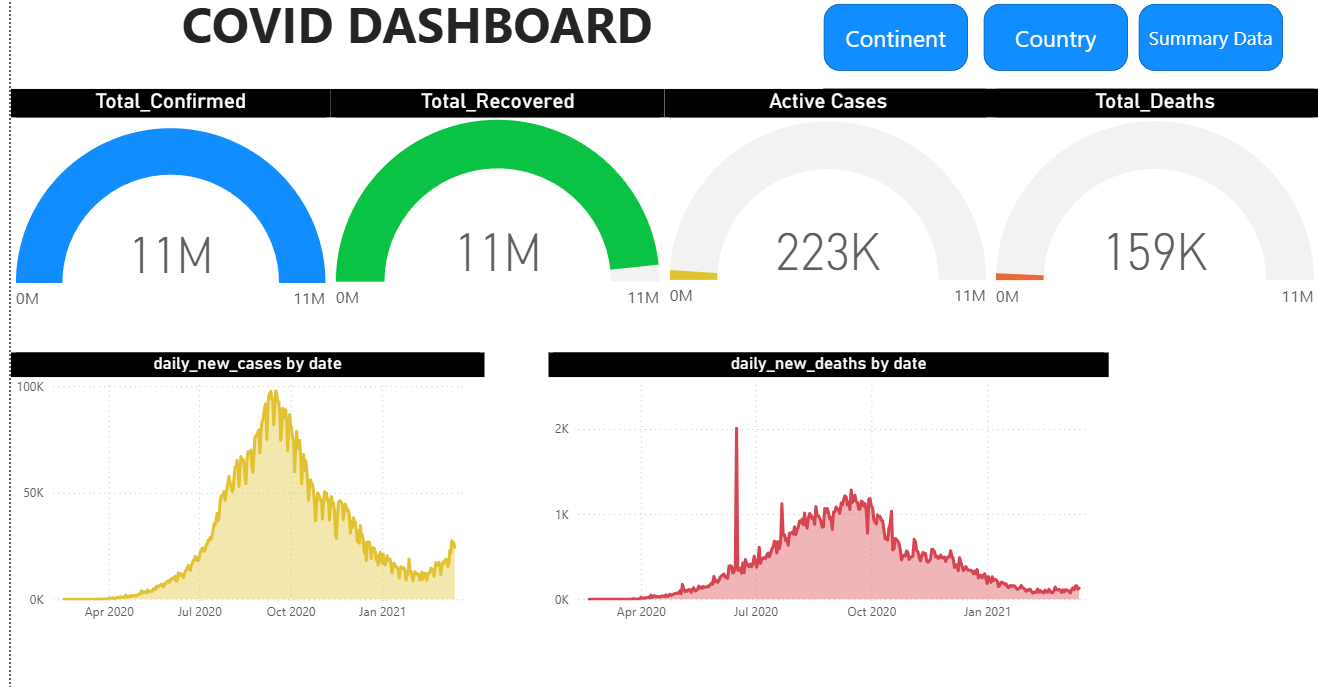

The page's visual inventory and layout, read from the dashboard file:
{"tool":"powerbi","page":{"name":"India","canvas":[1280,720],"ordinal":3},"visuals":[{"type":"gauge","title":" Total_Confirmed ","fields":{"Y":["Sum(summary data.total_confirmed)"],"MaxValue":["Sum(summary data.total_confirmed)"]},"box":[0,101.5,312.9,237.4],"z":0},{"type":"gauge","title":" Total_Recovered","fields":{"MaxValue":["Sum(summary data.total_confirmed)"],"Y":["Sum(summary data.total_recovered)"]},"box":[312.9,101.5,326.6,227.8],"z":1000},{"type":"gauge","title":"Active Cases","fields":{"MaxValue":["Sum(summary data.total_confirmed)"],"Y":["Sum(summary data.active_cases)"]},"box":[639.5,101.5,319.7,227.8],"z":2000},{"type":"gauge","title":" Total_Deaths","fields":{"MaxValue":["Sum(summary data.total_confirmed)"],"Y":["Sum(summary data.total_deaths)"]},"box":[959.2,101.5,321.1,227.8],"z":3000},{"type":"areaChart","title":"daily_new_cases by date","fields":{"Y":["Sum(daily data.daily_new_cases)"],"Category":["daily data.date"]},"box":[0,359.5,463.3,271.7],"z":4000},{"type":"areaChart","title":"daily_new_deaths by date","fields":{"Category":["daily data.date"],"Y":["Sum(daily data.daily_new_deaths)"]},"box":[525.6,359.5,548.3,271.7],"z":5000},{"type":"shape","box":[794.5,17.8,141.3,65.9],"z":6000},{"type":"shape","box":[950.9,17.8,141.3,65.9],"z":7000},{"type":"shape","box":[1103.3,17.8,141.3,65.9],"z":8000},{"type":"textbox","box":[0,0,794.5,101.5],"z":9000}]}

Visuals, with their boxes on the page's 1280x720 design canvas (x1, y1, x2, y2). These are canvas units, not pixel positions in the 1318x687 screenshot, which may show the page scaled, cropped or inside an application window:
" Total_Confirmed " gauge: <region>0, 102, 313, 339</region>
" Total_Recovered" gauge: <region>313, 102, 640, 329</region>
"Active Cases" gauge: <region>640, 102, 959, 329</region>
" Total_Deaths" gauge: <region>959, 102, 1280, 329</region>
"daily_new_cases by date" areaChart: <region>0, 360, 463, 631</region>
"daily_new_deaths by date" areaChart: <region>526, 360, 1074, 631</region>
shape: <region>794, 18, 936, 84</region>
shape: <region>951, 18, 1092, 84</region>
shape: <region>1103, 18, 1245, 84</region>
textbox: <region>0, 0, 794, 102</region>
